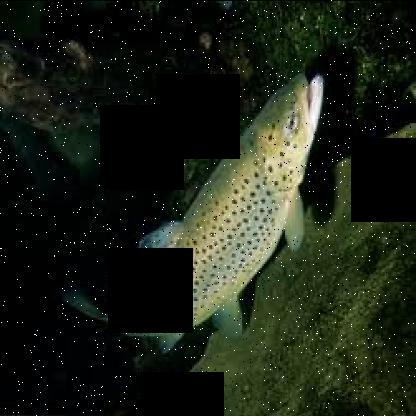fish: (62, 70, 322, 358)
